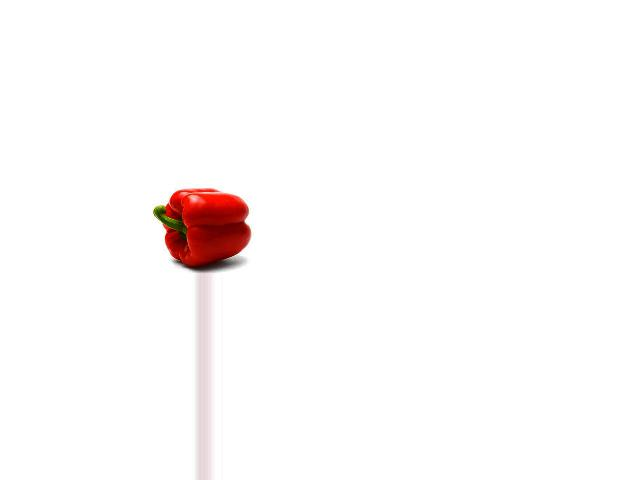bell_pepper: (147, 188, 259, 265)
